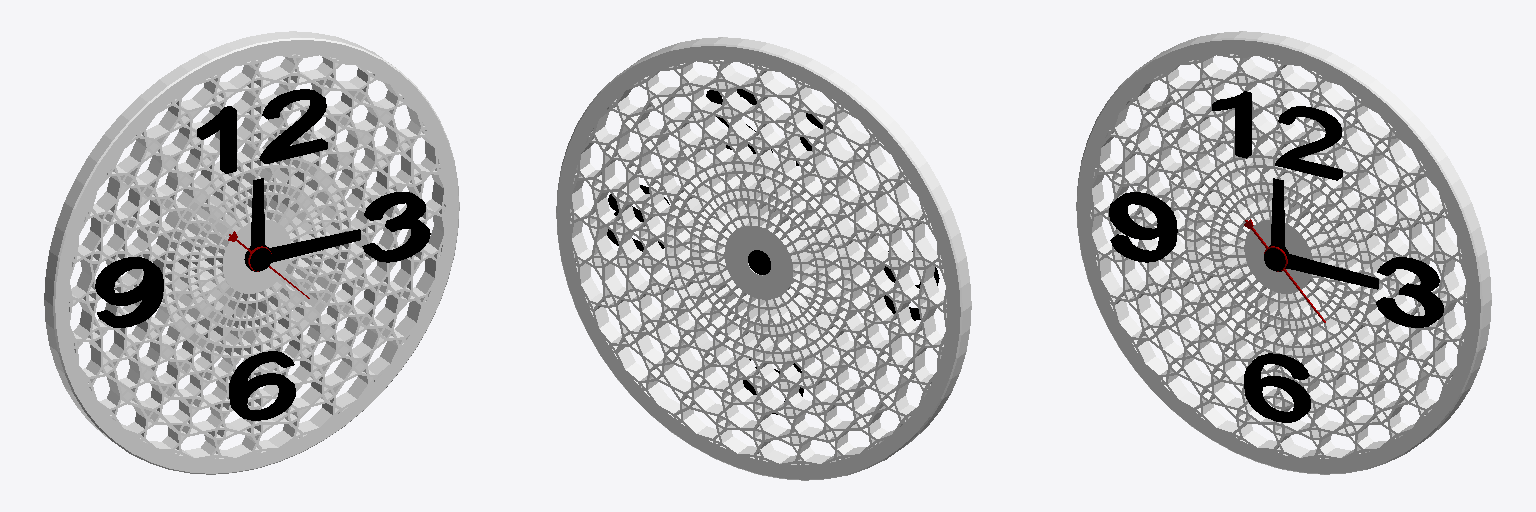
File: clock03_DEFAULT.obj
3 views of the same model, side by side, from view 1: azimuth 30°, elevation 25°; view 2: azimuth 150°, elevation 25°; view 3: azimuth 330°, elevation 25° (orthographic).
Visible parts, largest first — view 1: clock03, clock03_digits, clock03_bighand, clock03_littlehand; view 2: clock03, clock03_digits; view 3: clock03, clock03_digits, clock03_bighand, clock03_littlehand.
Part boxes in pixels (left/top/right/bottom): clock03: left=44, top=31, right=459, bottom=474; clock03_digits: left=95, top=89, right=430, bottom=420; clock03_bighand: left=246, top=229, right=360, bottom=271; clock03_littlehand: left=245, top=178, right=264, bottom=266; clock03: left=556, top=37, right=971, bottom=480; clock03_digits: left=607, top=89, right=939, bottom=414; clock03: left=1076, top=31, right=1491, bottom=474; clock03_digits: left=1109, top=91, right=1443, bottom=422; clock03_bighand: left=1269, top=244, right=1378, bottom=289; clock03_littlehand: left=1271, top=178, right=1288, bottom=252.
Bounding box in the file's own units: 17.63 × 17.63 × 1.39.